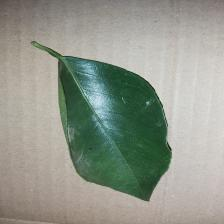healthy: (39, 60, 224, 199)
